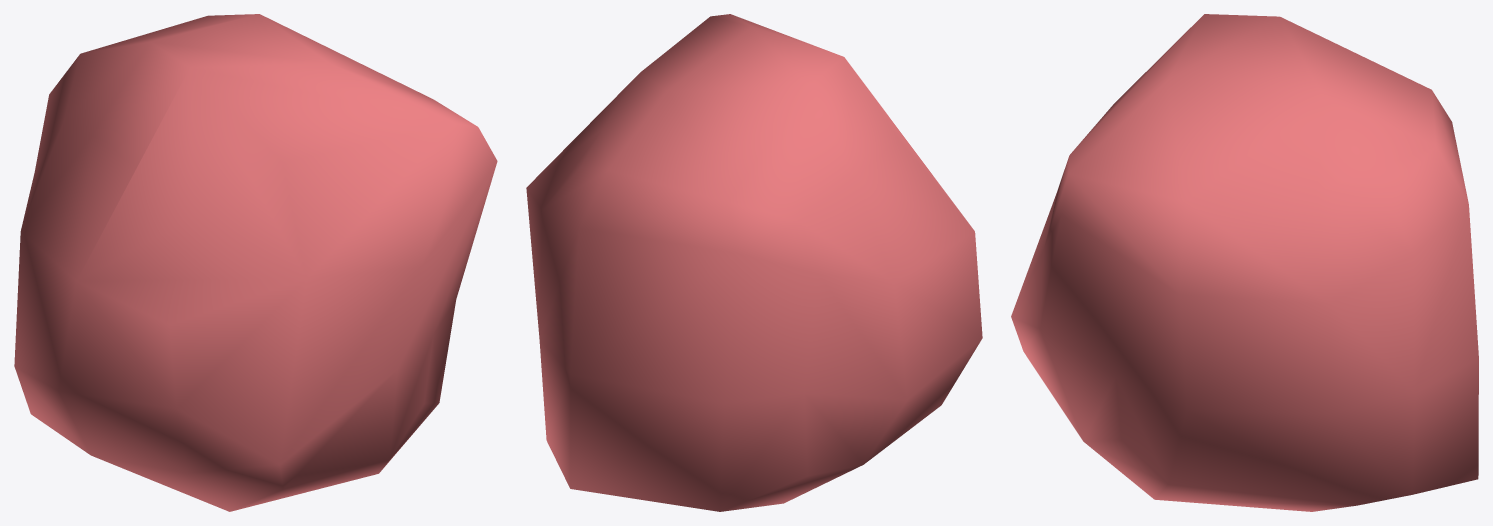
The model's file is 13-Stone.fbx.
3 views of the same model, side by side, from view 1: azimuth 30°, elevation 25°; view 2: azimuth 150°, elevation 25°; view 3: azimuth 270°, elevation 25° (orthographic). The views are drawn at different scales.
Visible parts, largest first — view 1: Stone; view 2: Stone; view 3: Stone.
Boxes of the visible parts, x1,y1,x2,y2 form: Stone: (14,14,497,511); Stone: (526,14,982,511); Stone: (1011,14,1478,511).
Bounding box in the file's own units: 99.68 × 99.38 × 99.16.
